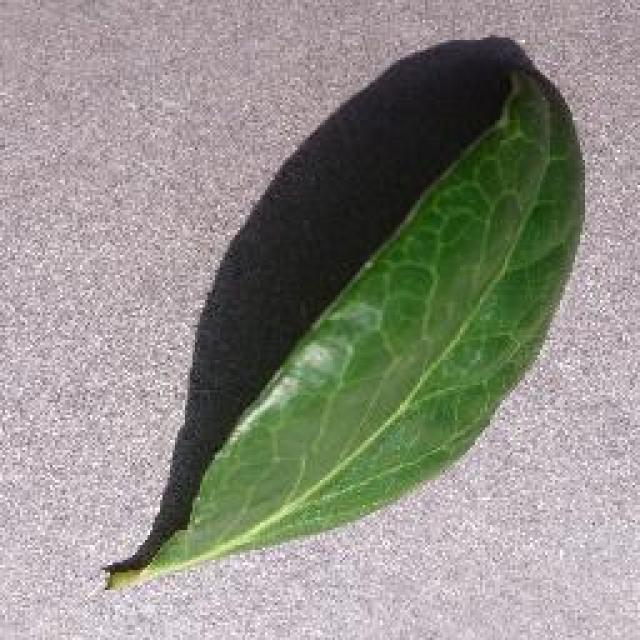Blu_healthy: (258, 173, 598, 512)
